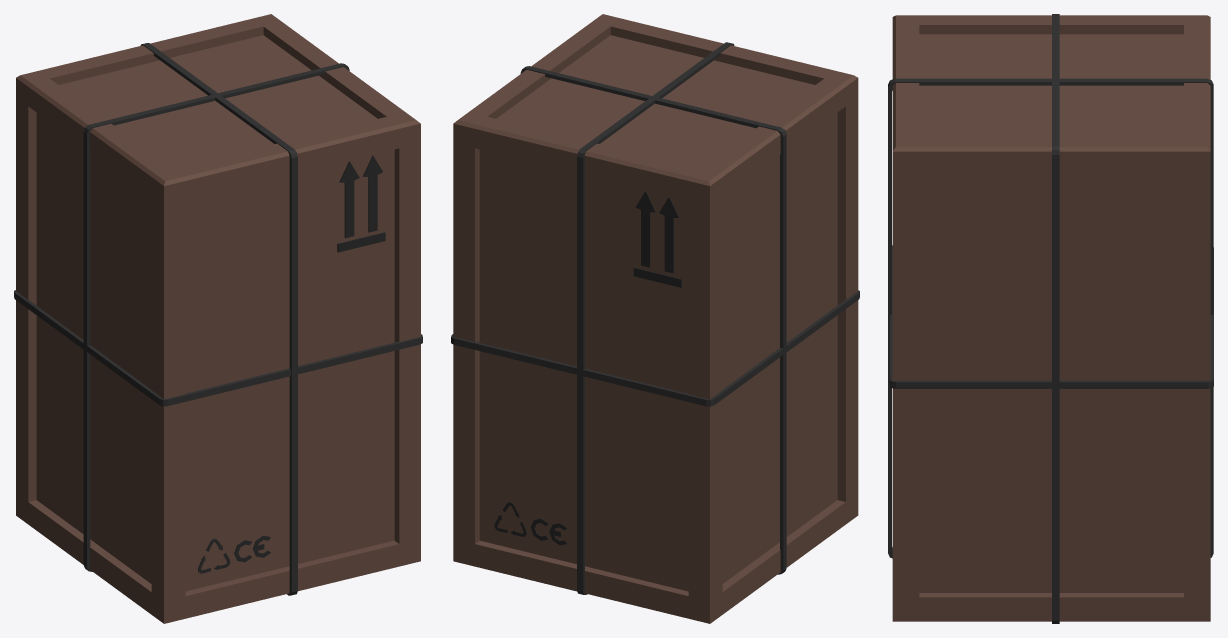
Rendered from props_09.glb.
The picture shows the model from 3 angles, left to right: view 1: azimuth 30°, elevation 25°; view 2: azimuth 150°, elevation 25°; view 3: azimuth 270°, elevation 25°; orthographic projection. The views are drawn at different scales.
Parts seen in each view (by area): view 1: props_09; view 2: props_09; view 3: props_09.
Boxes of the visible parts, bbox=[...] form: props_09: bbox=[14, 14, 422, 623]; props_09: bbox=[451, 14, 859, 623]; props_09: bbox=[888, 14, 1213, 623].
Size of the model in its own units: 2.05 by 3.31 by 2.05.
Materials: 1 (1 with a texture image).
